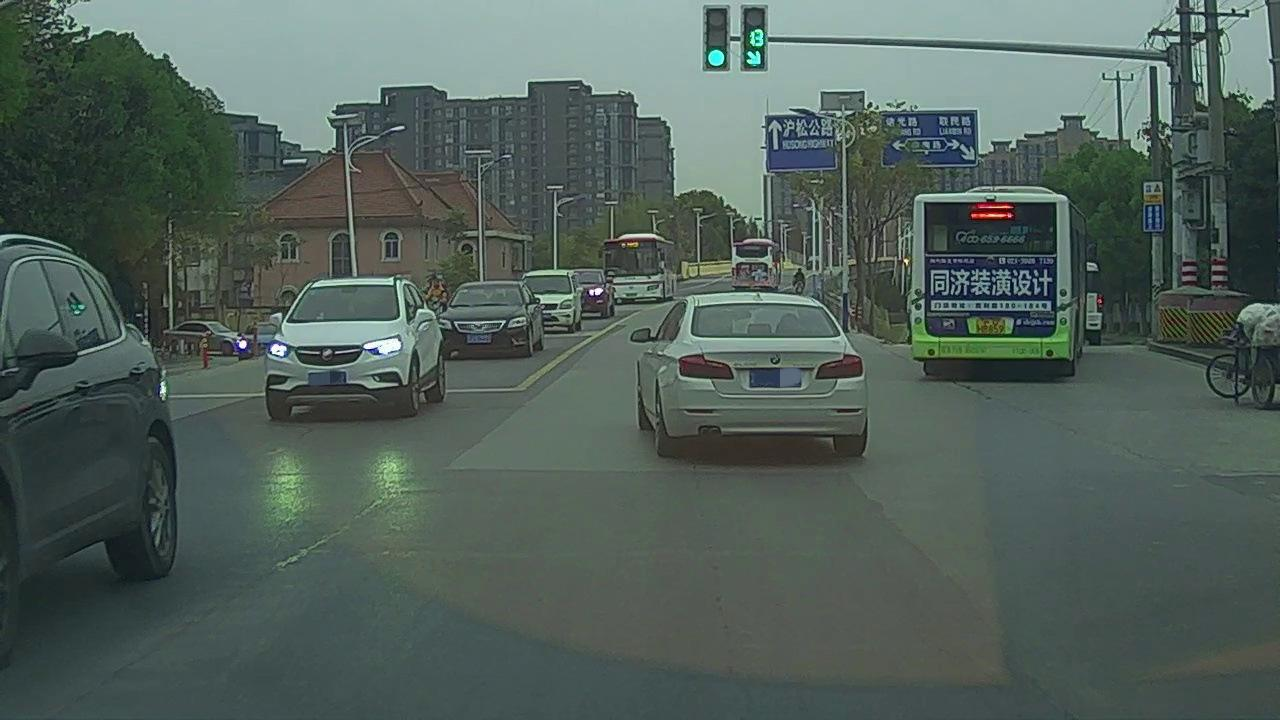traffic_light: (707, 5, 730, 70), (745, 6, 766, 71)
